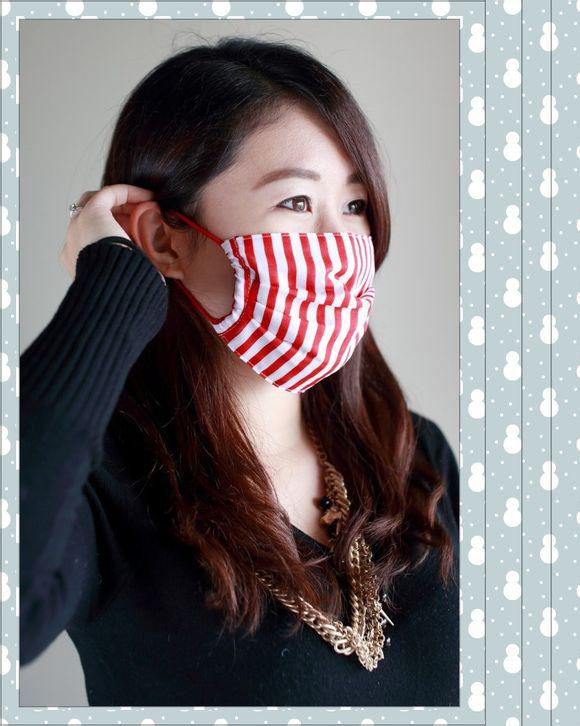OK: (151, 165, 385, 389)
